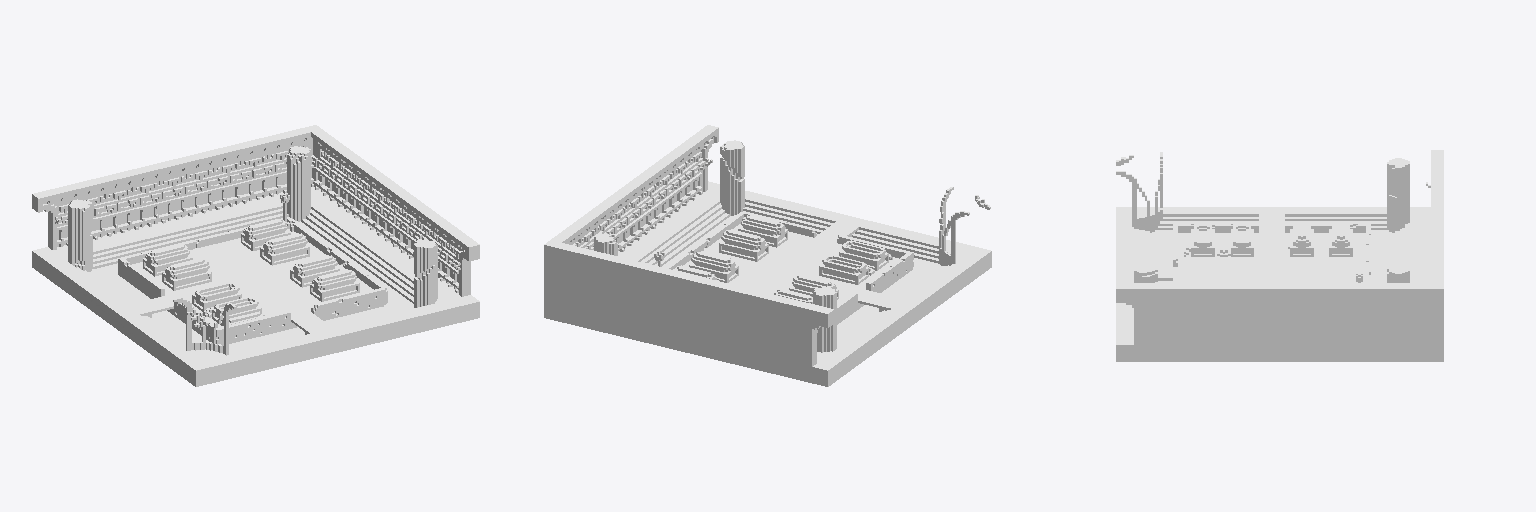
The model's file is Room1-1.obj.
The picture shows the model from 3 angles: view 1: azimuth 30°, elevation 25°; view 2: azimuth 150°, elevation 25°; view 3: azimuth 270°, elevation 25°; orthographic projection.
Parts seen in each view (by area): view 1: object 1; view 2: object 1; view 3: object 1.
Part boxes in pixels (x1,y1,x2,y2): object 1: (32, 125, 479, 386); object 1: (544, 125, 991, 386); object 1: (1116, 150, 1443, 361).
Size of the model in its own units: 12.6 by 3.1 by 12.6.